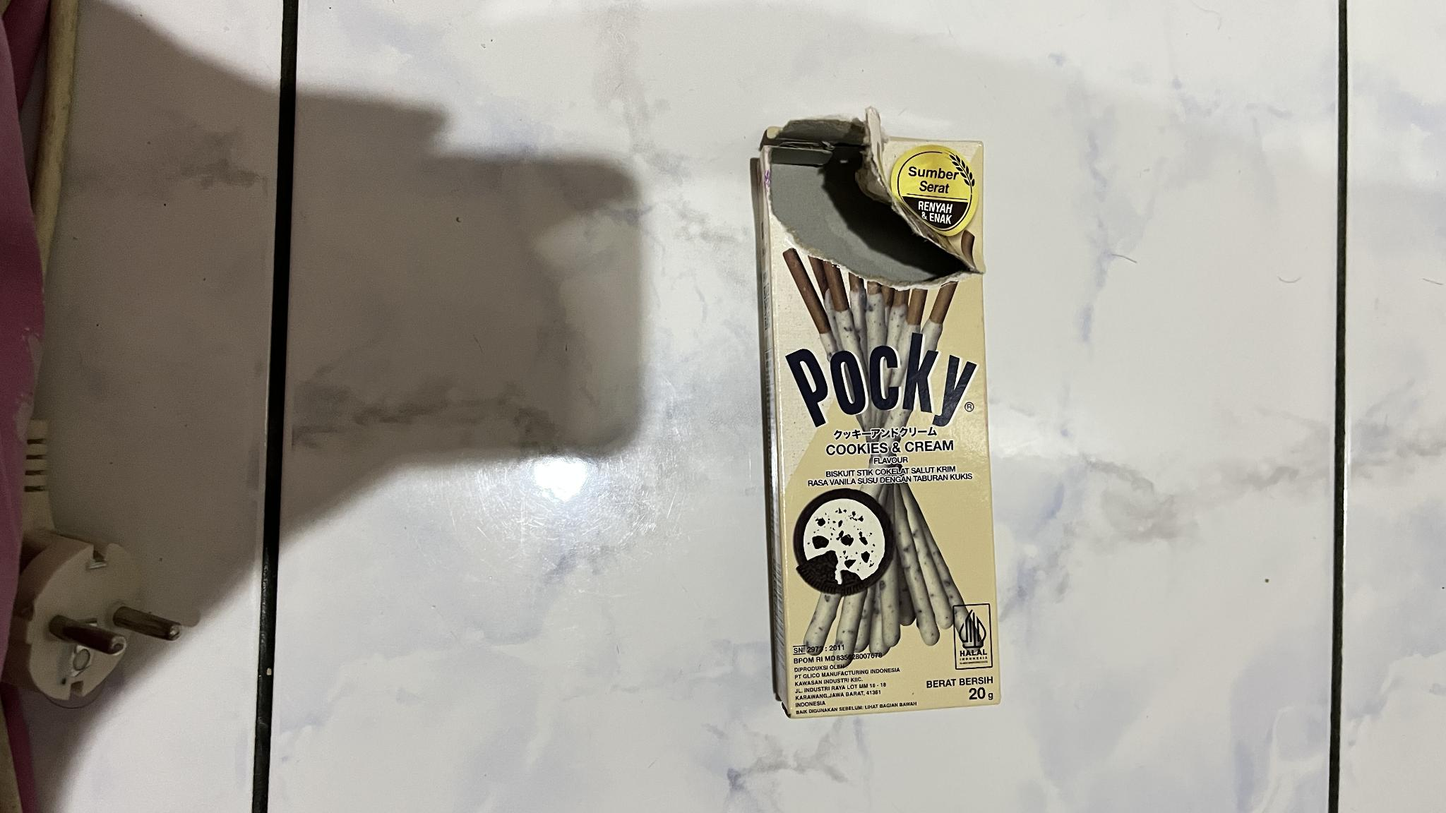Kertas: (759, 125, 1002, 715)
